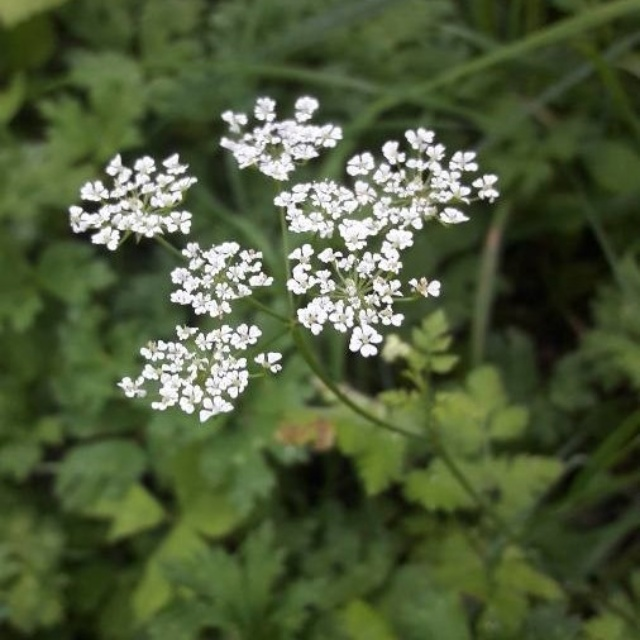obstacle: (62, 75, 538, 559)
